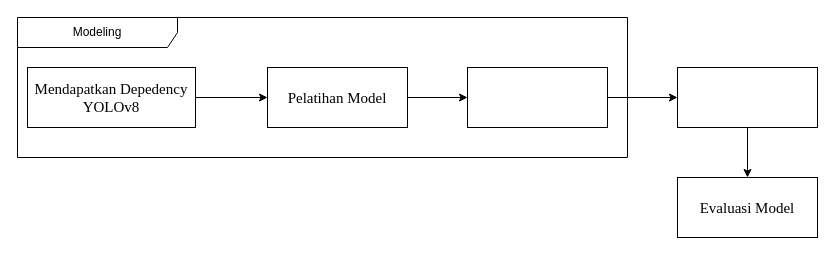
The diagram is 835 pixels wide and 255 high, and some of its shapes have lost their labels. The centre of each missing label's shape, as x and y in pixels:
"Testing Model" belongs at point (747, 97).
"Validasi Model" belongs at point (537, 97).
